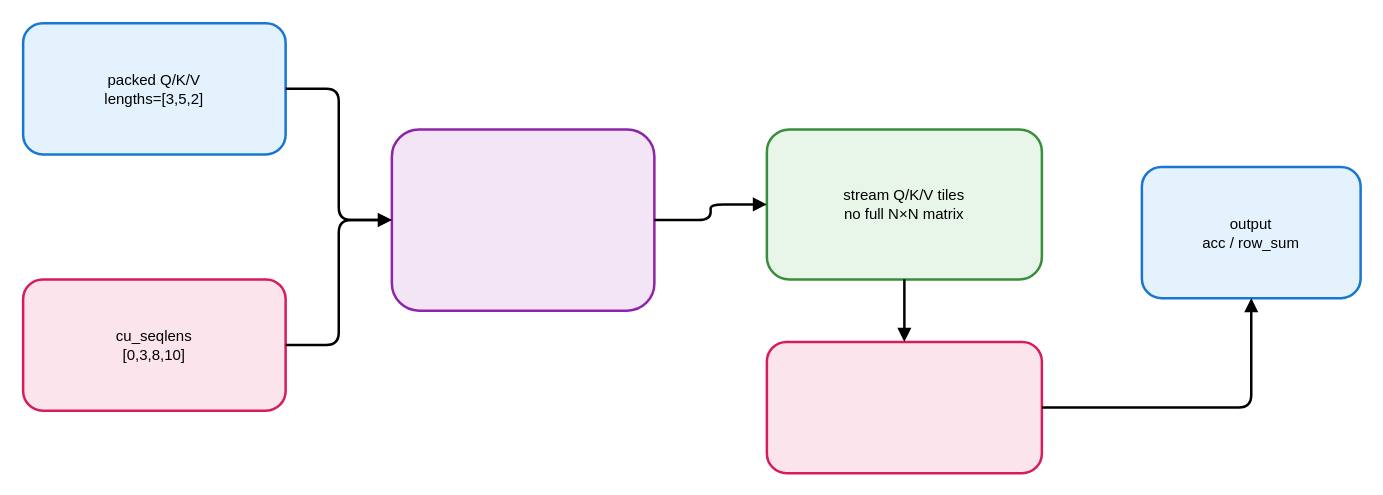
Some shapes in this 1383 by 495 pixel diagram are drawn without their labels. The centre of each missing label's shape, as x and y in pixels:
"grid (query tile, Q head, seq) GQA + causal masks" goes at point 522,219.
"online softmax row_max, row_sum, acc" goes at point 903,407.
